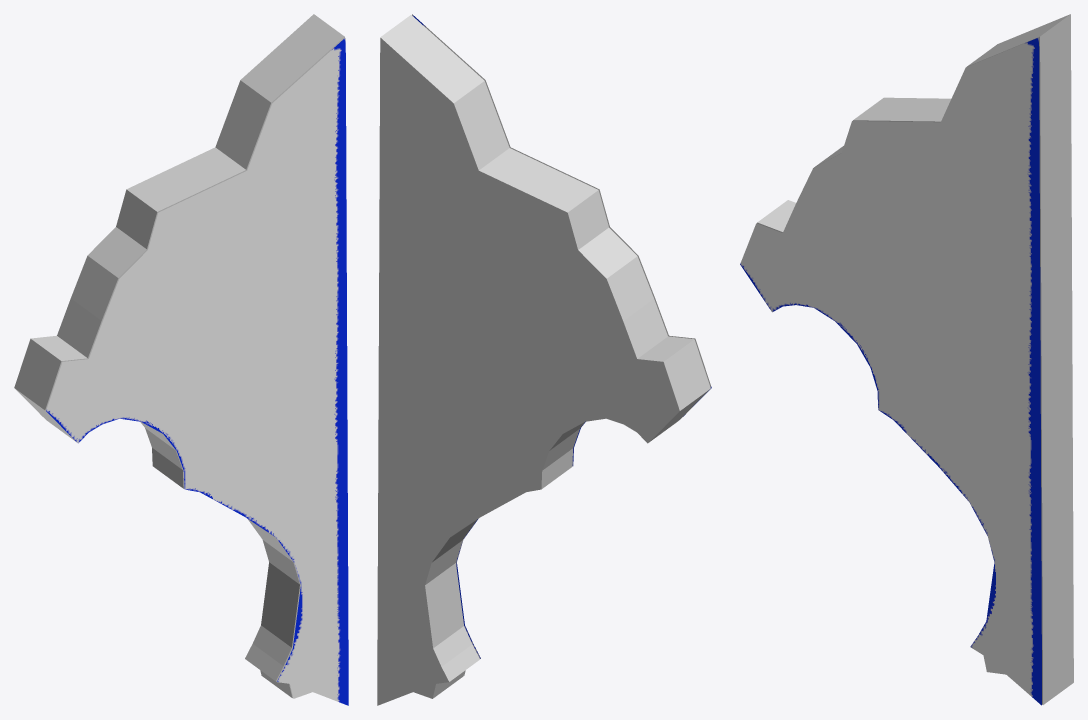
The picture shows the model from 3 angles, left to right: view 1: azimuth 30°, elevation 25°; view 2: azimuth 150°, elevation 25°; view 3: azimuth 330°, elevation 25°; orthographic projection.
Parts seen in each view (by area): view 1: Out_2_1, Out_2_0; view 2: Out_2_0, Out_2_1; view 3: Out_2_1, Out_2_0.
Boxes of the visible parts, x1,y1,x2,y2 form: Out_2_1: [46, 38, 348, 705]; Out_2_0: [14, 14, 344, 698]; Out_2_0: [377, 15, 710, 705]; Out_2_1: [412, 14, 711, 675]; Out_2_1: [740, 37, 1041, 705]; Out_2_0: [757, 14, 1073, 704].
Size of the model in its own units: 2.83 by 5.97 by 0.515.
2 materials, 1 textured.
